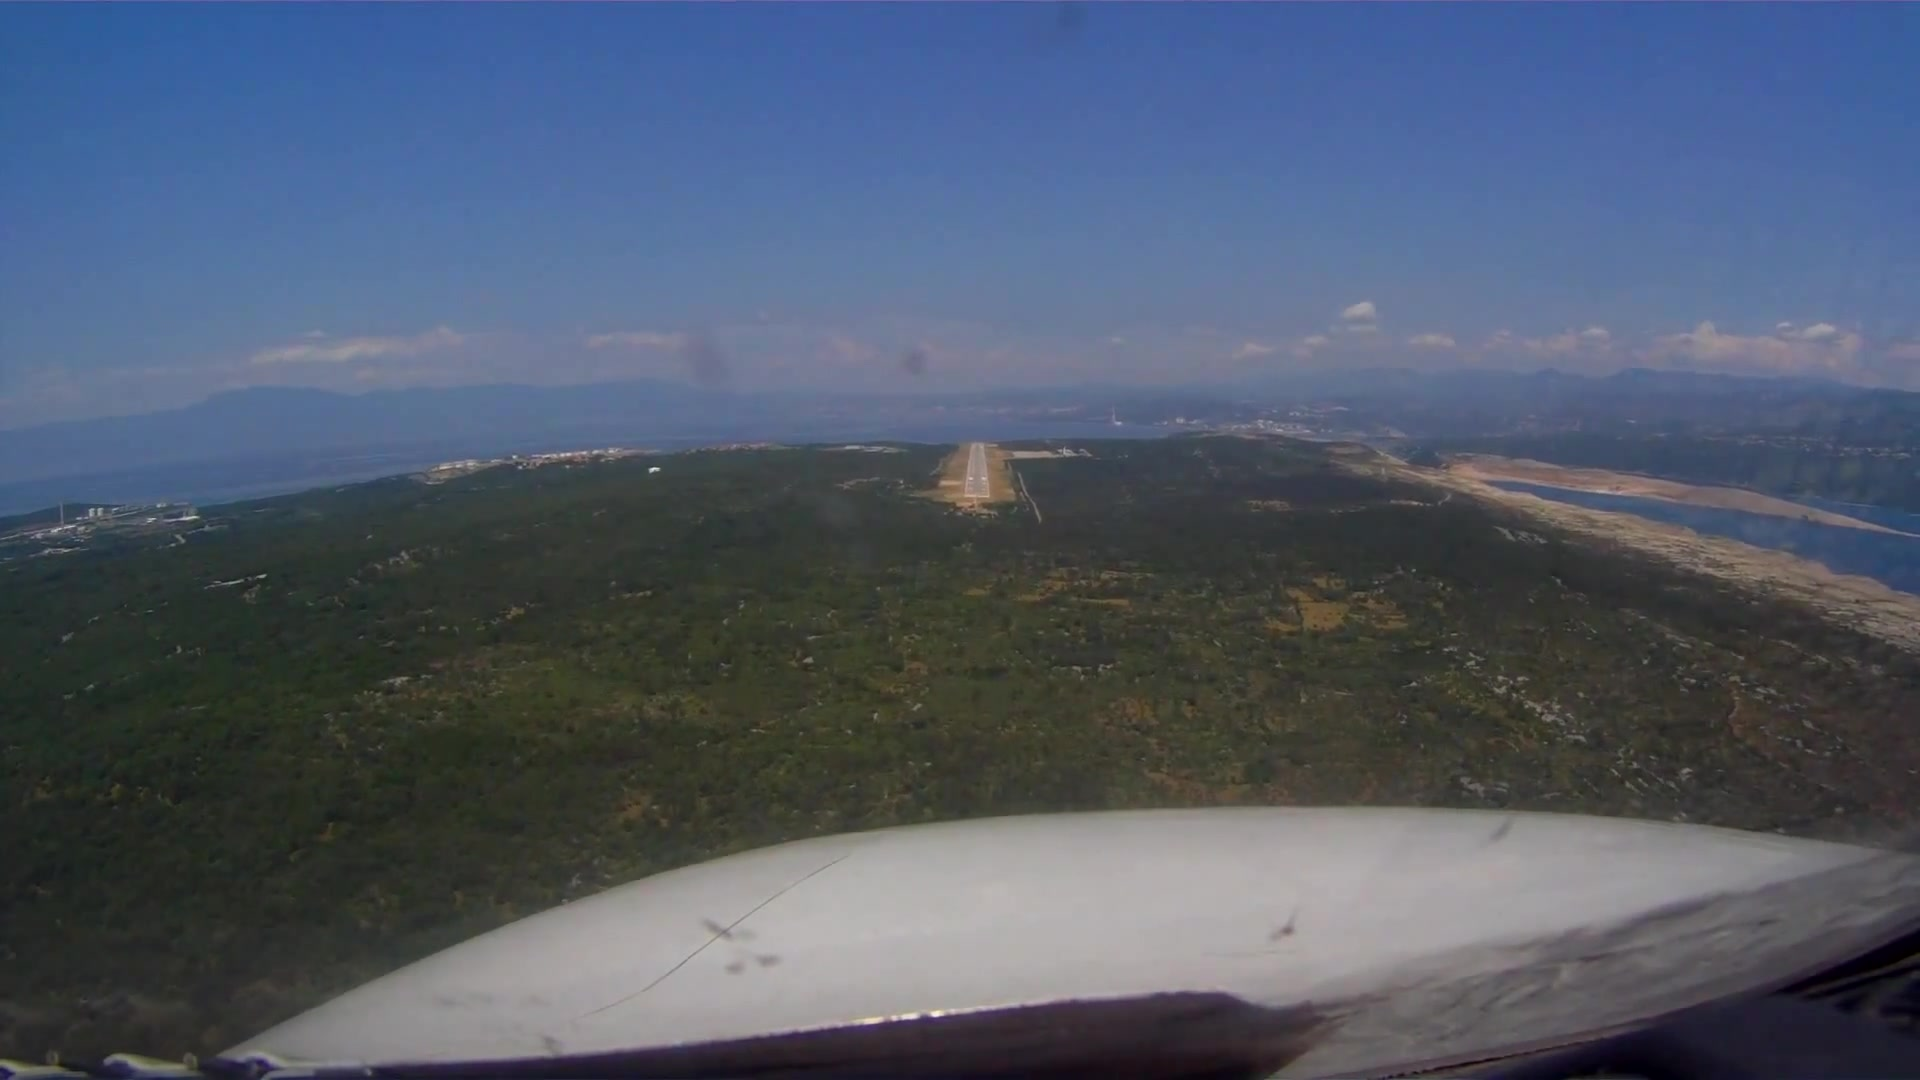runway: (961, 443, 990, 501)
